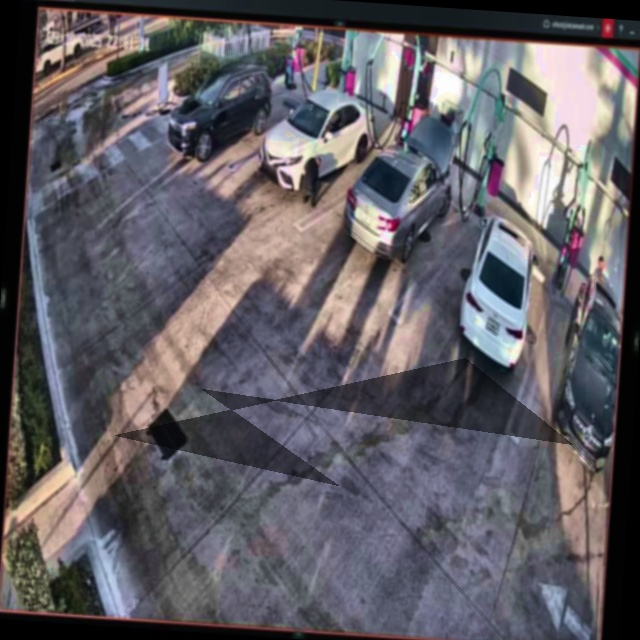Car: (346, 115, 457, 271), (260, 85, 377, 197), (457, 212, 536, 368), (167, 62, 276, 165)
